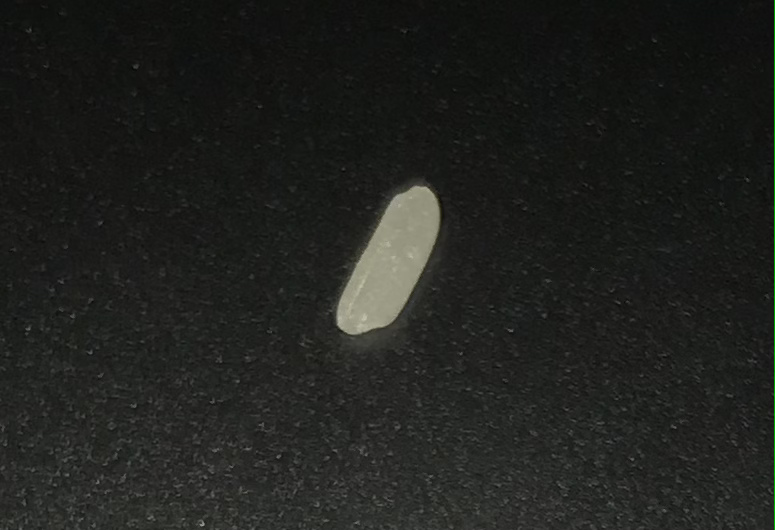Gao Tam Thom: (337, 180, 443, 339)
